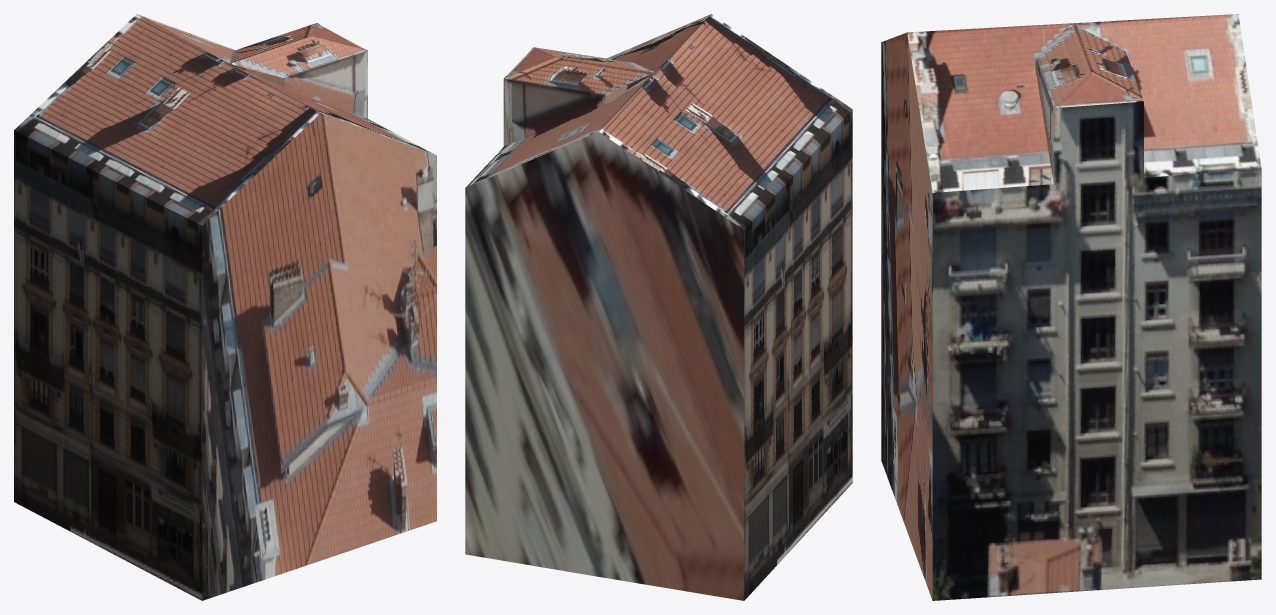
3 views of the same model, side by side, from view 1: azimuth 30°, elevation 25°; view 2: azimuth 150°, elevation 25°; view 3: azimuth 270°, elevation 25° (orthographic). The views are drawn at different scales.
Visible parts, largest first — view 1: Z_UP; view 2: Z_UP; view 3: Z_UP.
Boxes of the visible parts, x1,y1,x2,y2 form: Z_UP: (14,14,436,600); Z_UP: (465,14,852,600); Z_UP: (881,14,1261,600).
Size of the model in its own units: 18.99 by 27.31 by 18.86.
Materials: 2 (1 with a texture image).
